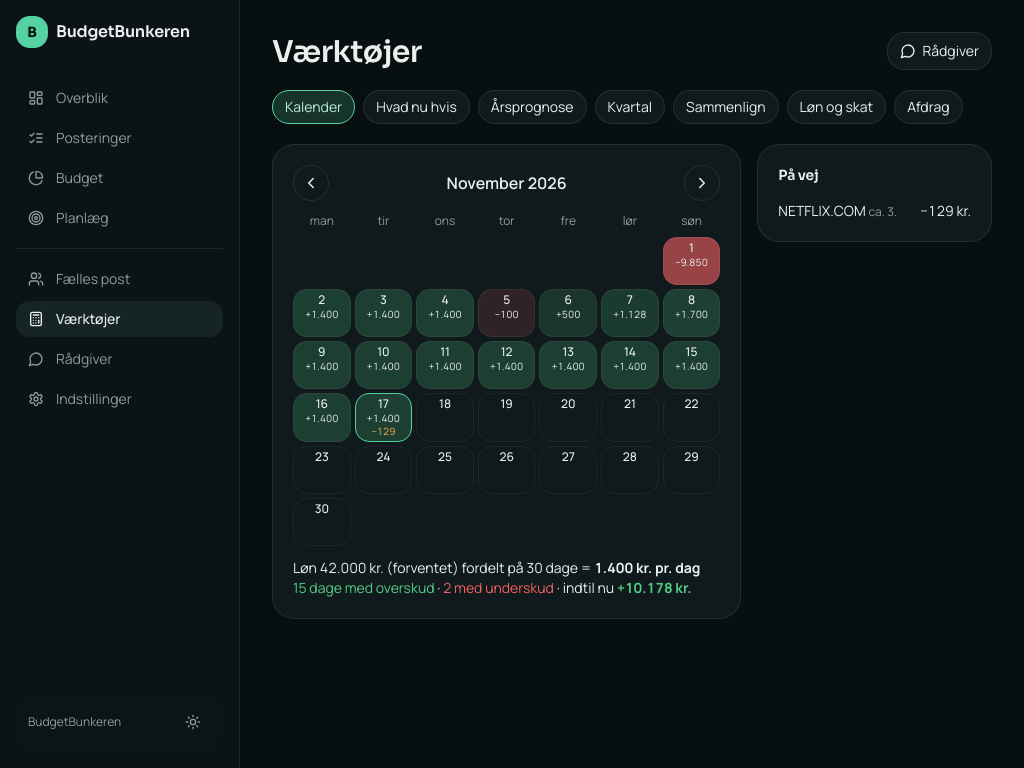
Test: Ny app – det, der før kun var i den klassiske › Værktøjer: kalender med grønne/røde dage og sammenlign
Expected: the text "15 dage med overskud" is shown, [293, 578, 434, 597]
Click the tab "Sammenlign". click: (726, 107)
box: [673, 90, 778, 124]
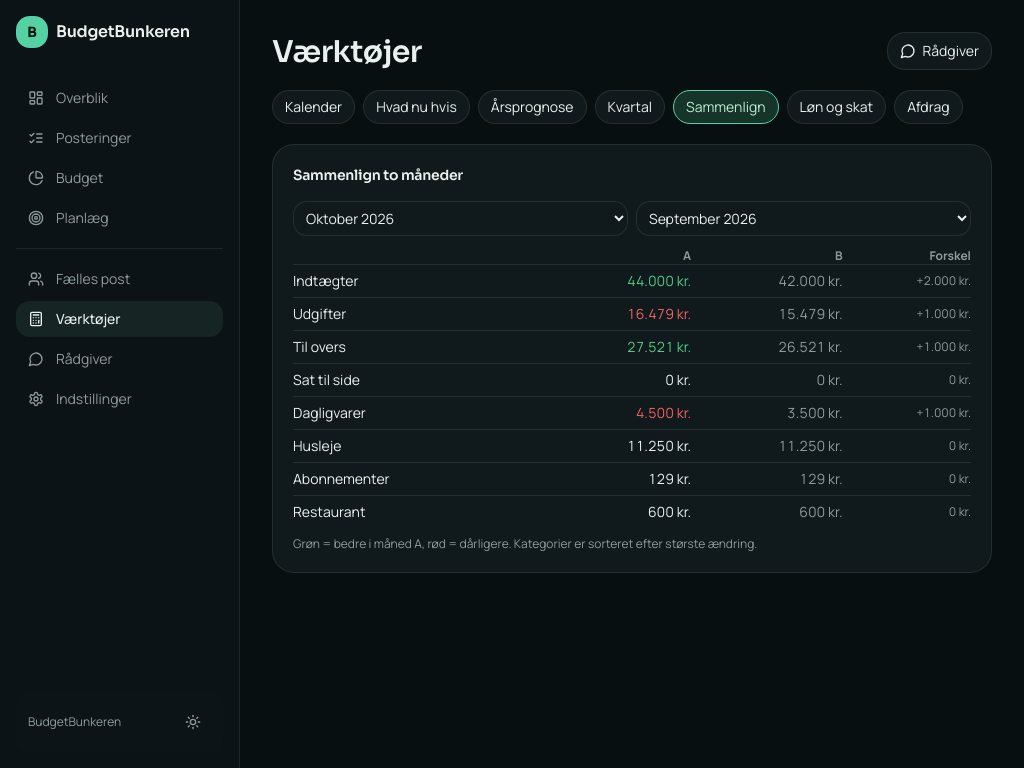
Now the heading "Sammenlign to måneder" is shown, box [293, 165, 463, 185]
Click the tab "Hvad nu hvis". click: (416, 107)
box: [363, 90, 470, 124]
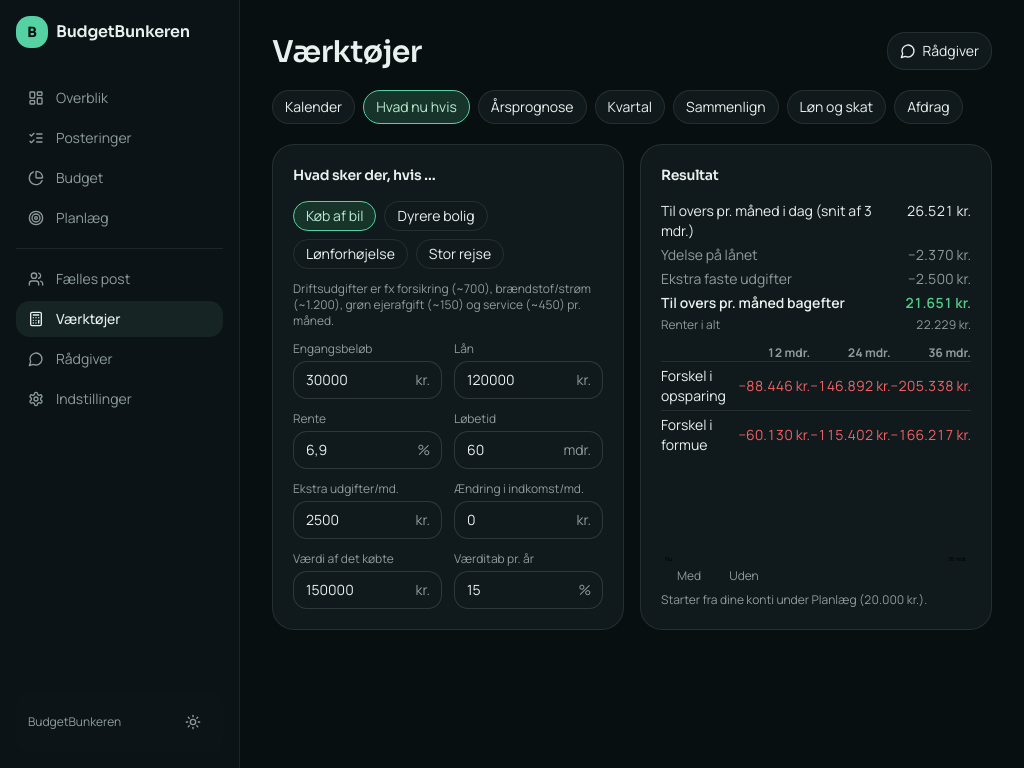
Now the text "Til overs pr. måned bagefter" is shown, box [661, 293, 845, 313]
